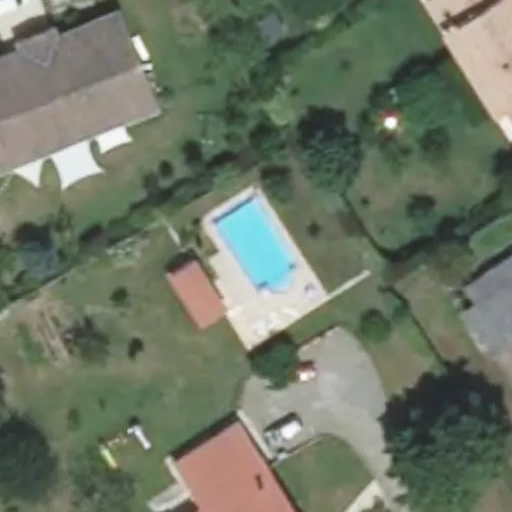pool: (213, 219, 305, 274)
